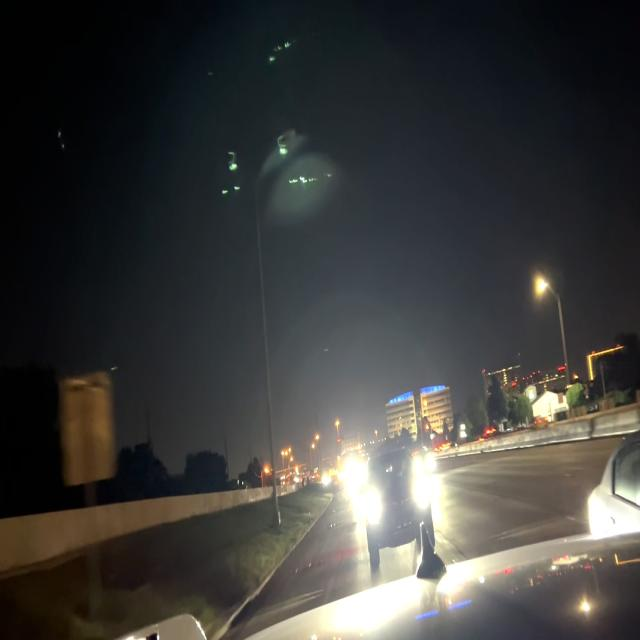back-of-sign: (65, 372, 115, 486)
